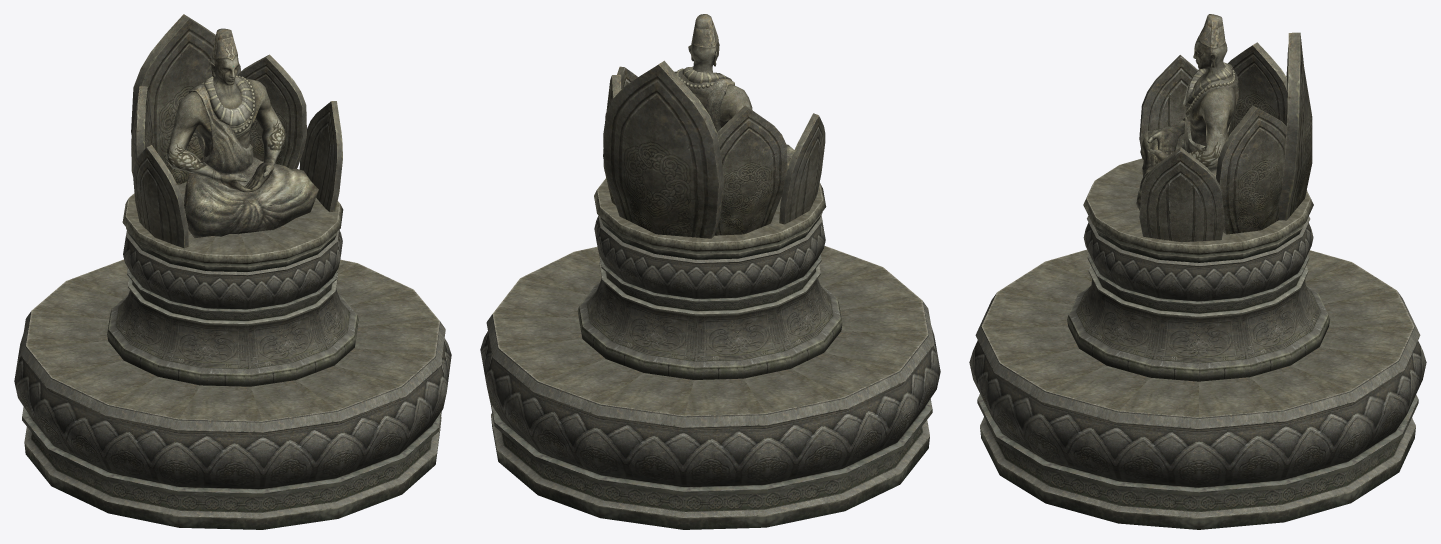
The model's file is dawnmist_statue.fbx.
3 renders of one model, left to right at view 1: azimuth 30°, elevation 25°; view 2: azimuth 150°, elevation 25°; view 3: azimuth 270°, elevation 25°, orthographic. The views are drawn at different scales.
Parts seen in each view (by area): view 1: 01, 00; view 2: 01, 00; view 3: 01, 00.
Part boxes in pixels (<box>): 01: <box>14,14,451,529</box>; 00: <box>165,28,318,238</box>; 01: <box>480,60,940,529</box>; 00: <box>674,14,794,196</box>; 01: <box>969,32,1426,529</box>; 00: <box>1136,14,1239,210</box>.
Bounding box in the file's own units: 36.89 × 37.58 × 36.89.
